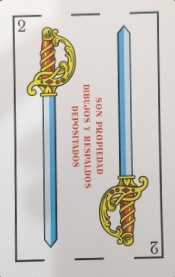2e: (12, 10, 160, 35)
